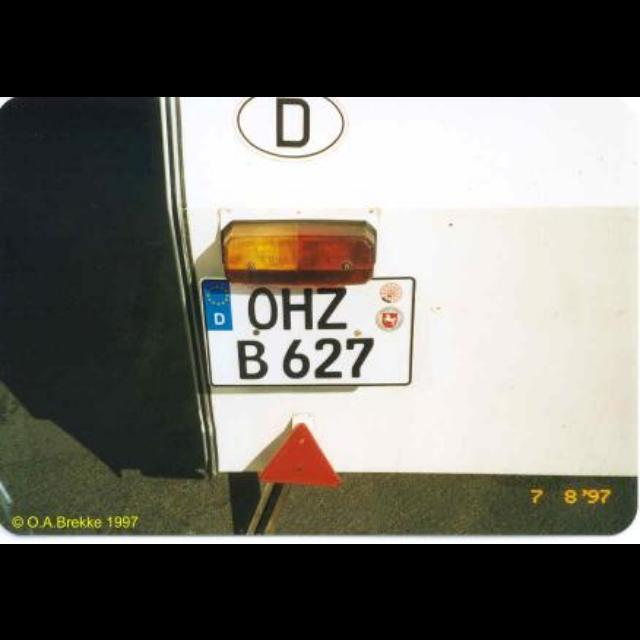d_license_plate: (199, 276, 413, 386)
